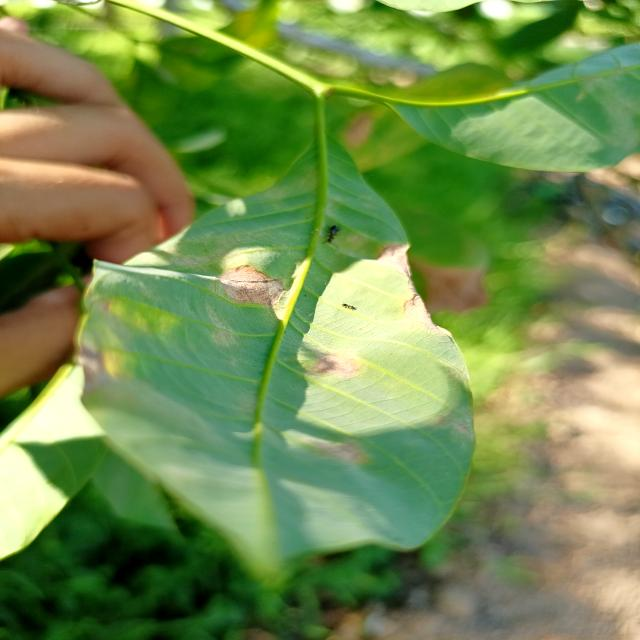Leaf-Blight: (218, 264, 285, 306), (311, 354, 361, 378), (402, 293, 437, 327), (374, 243, 410, 276)
